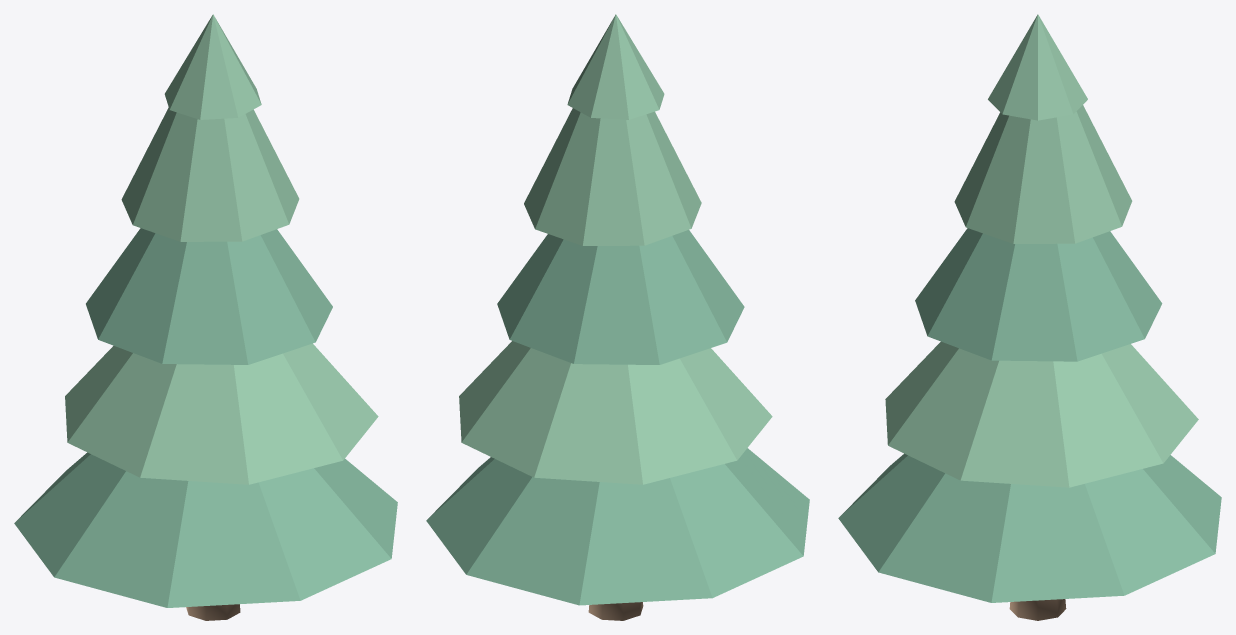
The model's file is tree_pine_b.glb.
3 renders of one model, left to right at view 1: azimuth 30°, elevation 25°; view 2: azimuth 150°, elevation 25°; view 3: azimuth 270°, elevation 25°, orthographic.
Parts seen in each view (by area): view 1: tree_pine_b; view 2: tree_pine_b; view 3: tree_pine_b.
Boxes of the visible parts, x1=… form: tree_pine_b: x1=14, y1=14, x2=397, y2=620; tree_pine_b: x1=426, y1=14, x2=809, y2=620; tree_pine_b: x1=838, y1=14, x2=1221, y2=620.
Bounding box in the file's own units: 2.46 × 4.18 × 2.44.
